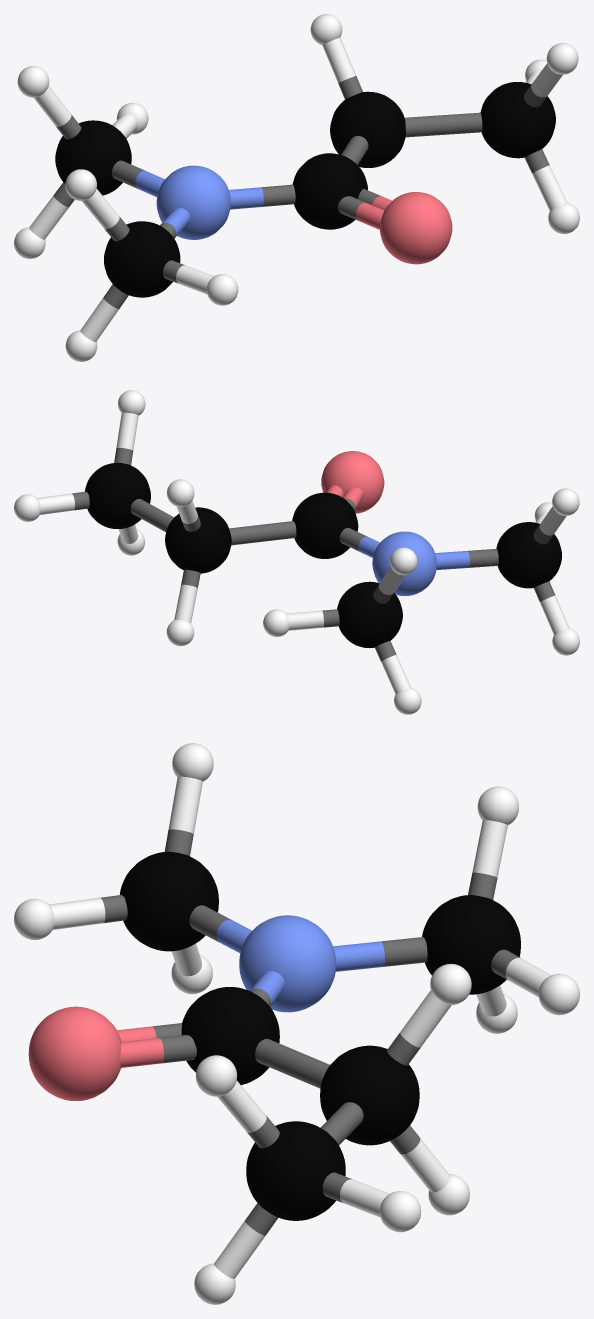
The model's file is n_n-dimethylpropanamide.glb.
3 views of the same model, one above another, from view 1: azimuth 30°, elevation 25°; view 2: azimuth 150°, elevation 25°; view 3: azimuth 270°, elevation 25° (orthographic). The views are drawn at different scales.
Visible parts, largest first — view 1: Oxygen_ball.001, Hydrogen_sticks_cylinder.012; view 2: Oxygen_ball.001, Hydrogen_sticks_cylinder.012; view 3: Oxygen_ball.001, Hydrogen_sticks_cylinder.012.
Part boxes in pixels (x1,y1,x2,y2): Oxygen_ball.001: (14, 14, 579, 361); Hydrogen_sticks_cylinder.012: (29, 37, 567, 341); Oxygen_ball.001: (14, 390, 579, 714); Hydrogen_sticks_cylinder.012: (37, 412, 569, 694); Oxygen_ball.001: (14, 743, 579, 1304); Hydrogen_sticks_cylinder.012: (49, 776, 550, 1278).
Size of the model in its own units: 6.6 by 2.13 by 4.38.
